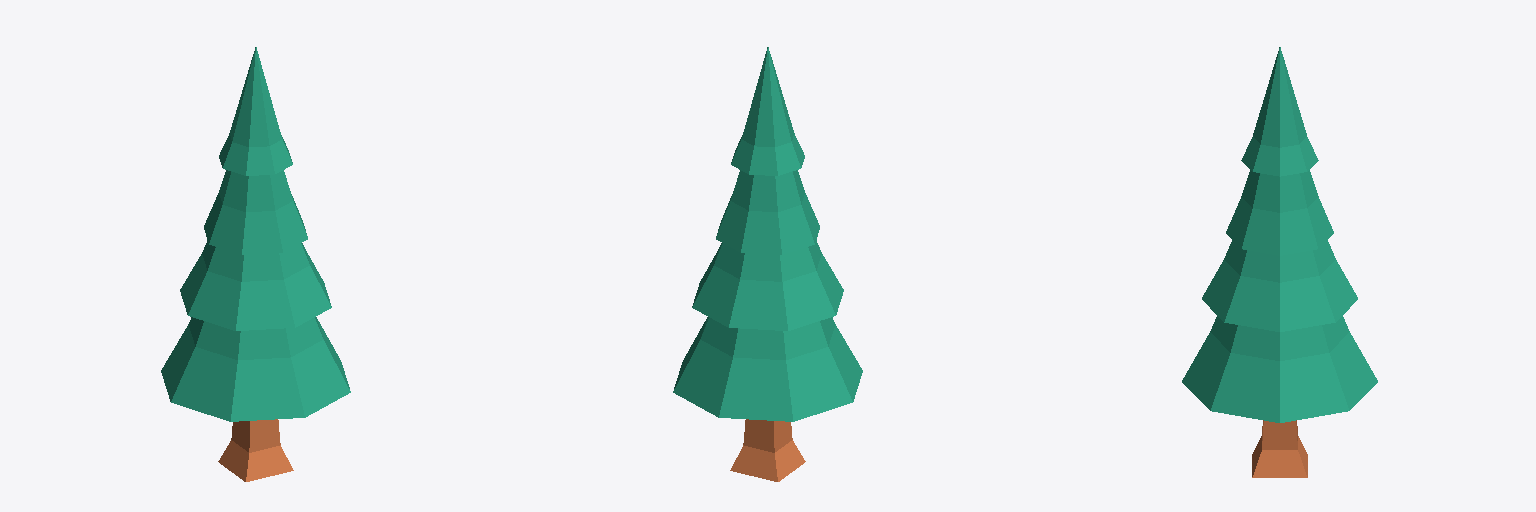
The model's file is tree.obj.
3 views of the same model, side by side, from view 1: azimuth 30°, elevation 25°; view 2: azimuth 150°, elevation 25°; view 3: azimuth 270°, elevation 25° (orthographic).
Visible parts, largest first — view 1: tree; view 2: tree; view 3: tree.
Boxes of the visible parts, box(x1,y1,x2,y2) form: tree: box(161, 47, 350, 481); tree: box(673, 47, 862, 481); tree: box(1182, 47, 1377, 477).
Bounding box in the file's own units: 1.02 × 2.41 × 1.02.